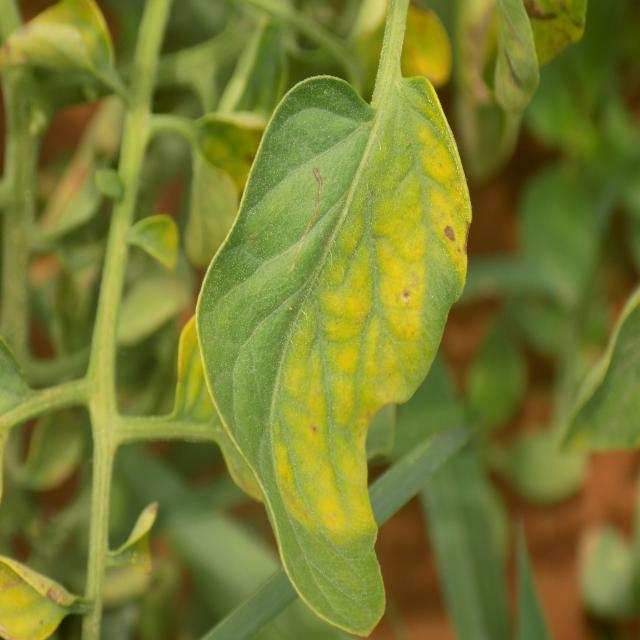tomato_early blight: (192, 71, 467, 640)
